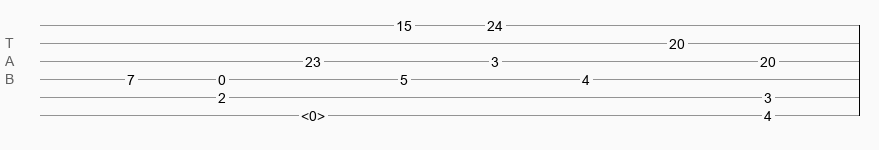0: (218, 72, 226, 82)
15: (396, 18, 412, 28)
2: (218, 90, 226, 100)
20: (669, 36, 685, 46), (760, 54, 776, 64)
23: (305, 54, 321, 64)
24: (487, 18, 503, 28)
3: (491, 54, 499, 64), (764, 90, 772, 100)
4: (582, 72, 590, 82), (764, 108, 772, 118)
5: (400, 72, 408, 82)
7: (127, 72, 135, 82)
harmonic: (301, 108, 325, 118)
